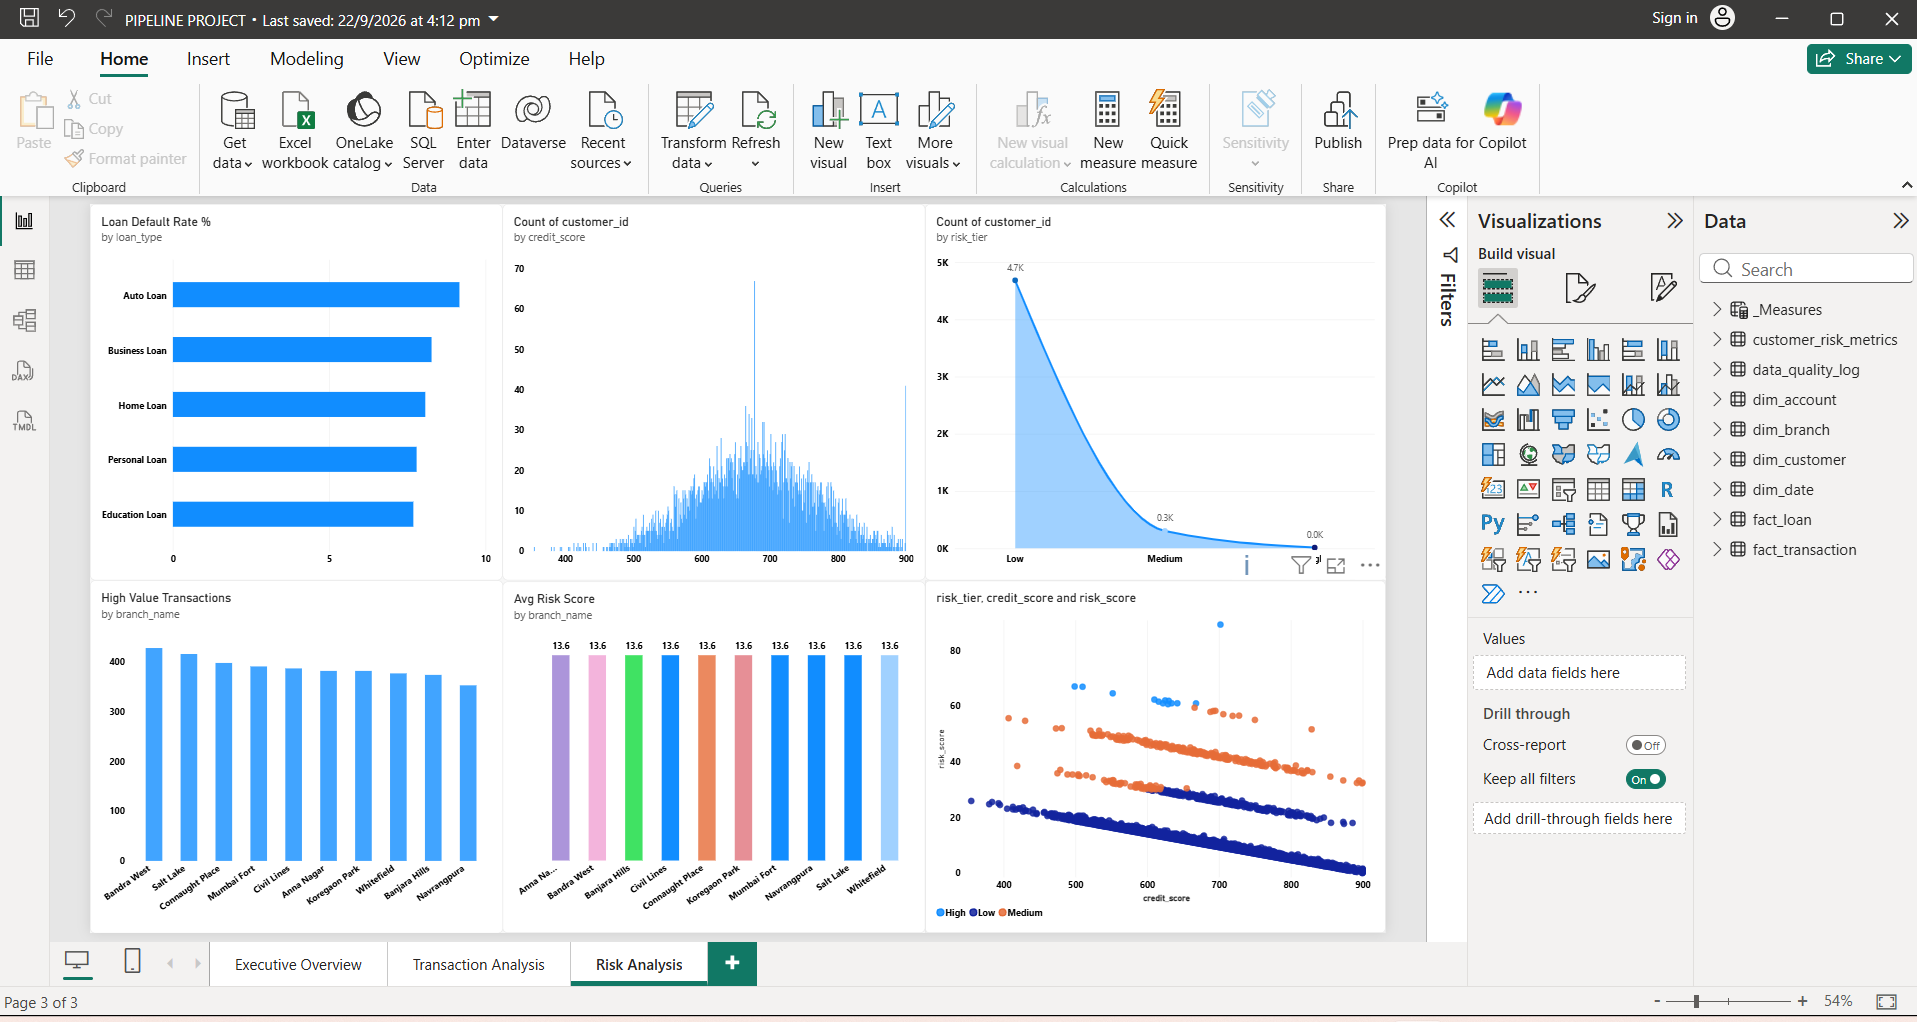

The page's visual inventory and layout, read from the dashboard file:
{"tool":"powerbi","page":{"name":"Risk Analysis","canvas":[1920,1080],"ordinal":2},"visuals":[{"type":"areaChart","fields":{"Category":["customer_risk_metrics.risk_tier"],"Y":["CountNonNull(customer_risk_metrics.customer_id)"]},"box":[1237,0,683.3,557.4],"z":0},{"type":"clusteredColumnChart","fields":{"Category":["dim_branch.branch_name"],"Y":["_Measures.Avg Risk Score"]},"box":[611.8,558.8,626.5,520.6],"z":1000},{"type":"clusteredColumnChart","fields":{"Category":["dim_branch.branch_name"],"Y":["_Measures.High Value Transactions"]},"box":[0,557.4,611.7,523],"z":2000},{"type":"barChart","fields":{"Category":["fact_loan.loan_type"],"Y":["_Measures.Loan Default Rate %"]},"box":[0,0,611.1,557.4],"z":3000},{"type":"lineStackedColumnComboChart","fields":{"Category":["dim_customer.credit_score"],"Y":["CountNonNull(dim_customer.customer_id)"]},"box":[611.8,0,626.1,557.4],"z":4000},{"type":"scatterChart","fields":{"Series":["customer_risk_metrics.risk_tier"],"X":["customer_risk_metrics.credit_score"],"Y":["customer_risk_metrics.risk_score"]},"box":[1237.8,557.4,682.2,523],"z":5001}]}

Visuals, with their boxes on the page's 1920x1080 design canvas (x1, y1, x2, y2). These are canvas units, not pixel positions in the 1917x1022 screenshot, which may show the page scaled, cropped or inside an application window:
areaChart - customer_risk_metrics.risk_tier x CountNonNull(customer_risk_metrics.customer_id): 1237 0 1920 557
clusteredColumnChart - dim_branch.branch_name x _Measures.Avg Risk Score: 612 559 1238 1079
clusteredColumnChart - dim_branch.branch_name x _Measures.High Value Transactions: 0 557 612 1080
barChart - fact_loan.loan_type x _Measures.Loan Default Rate %: 0 0 611 557
lineStackedColumnComboChart - dim_customer.credit_score x CountNonNull(dim_customer.customer_id): 612 0 1238 557
scatterChart - customer_risk_metrics.risk_tier x customer_risk_metrics.credit_score: 1238 557 1920 1080
